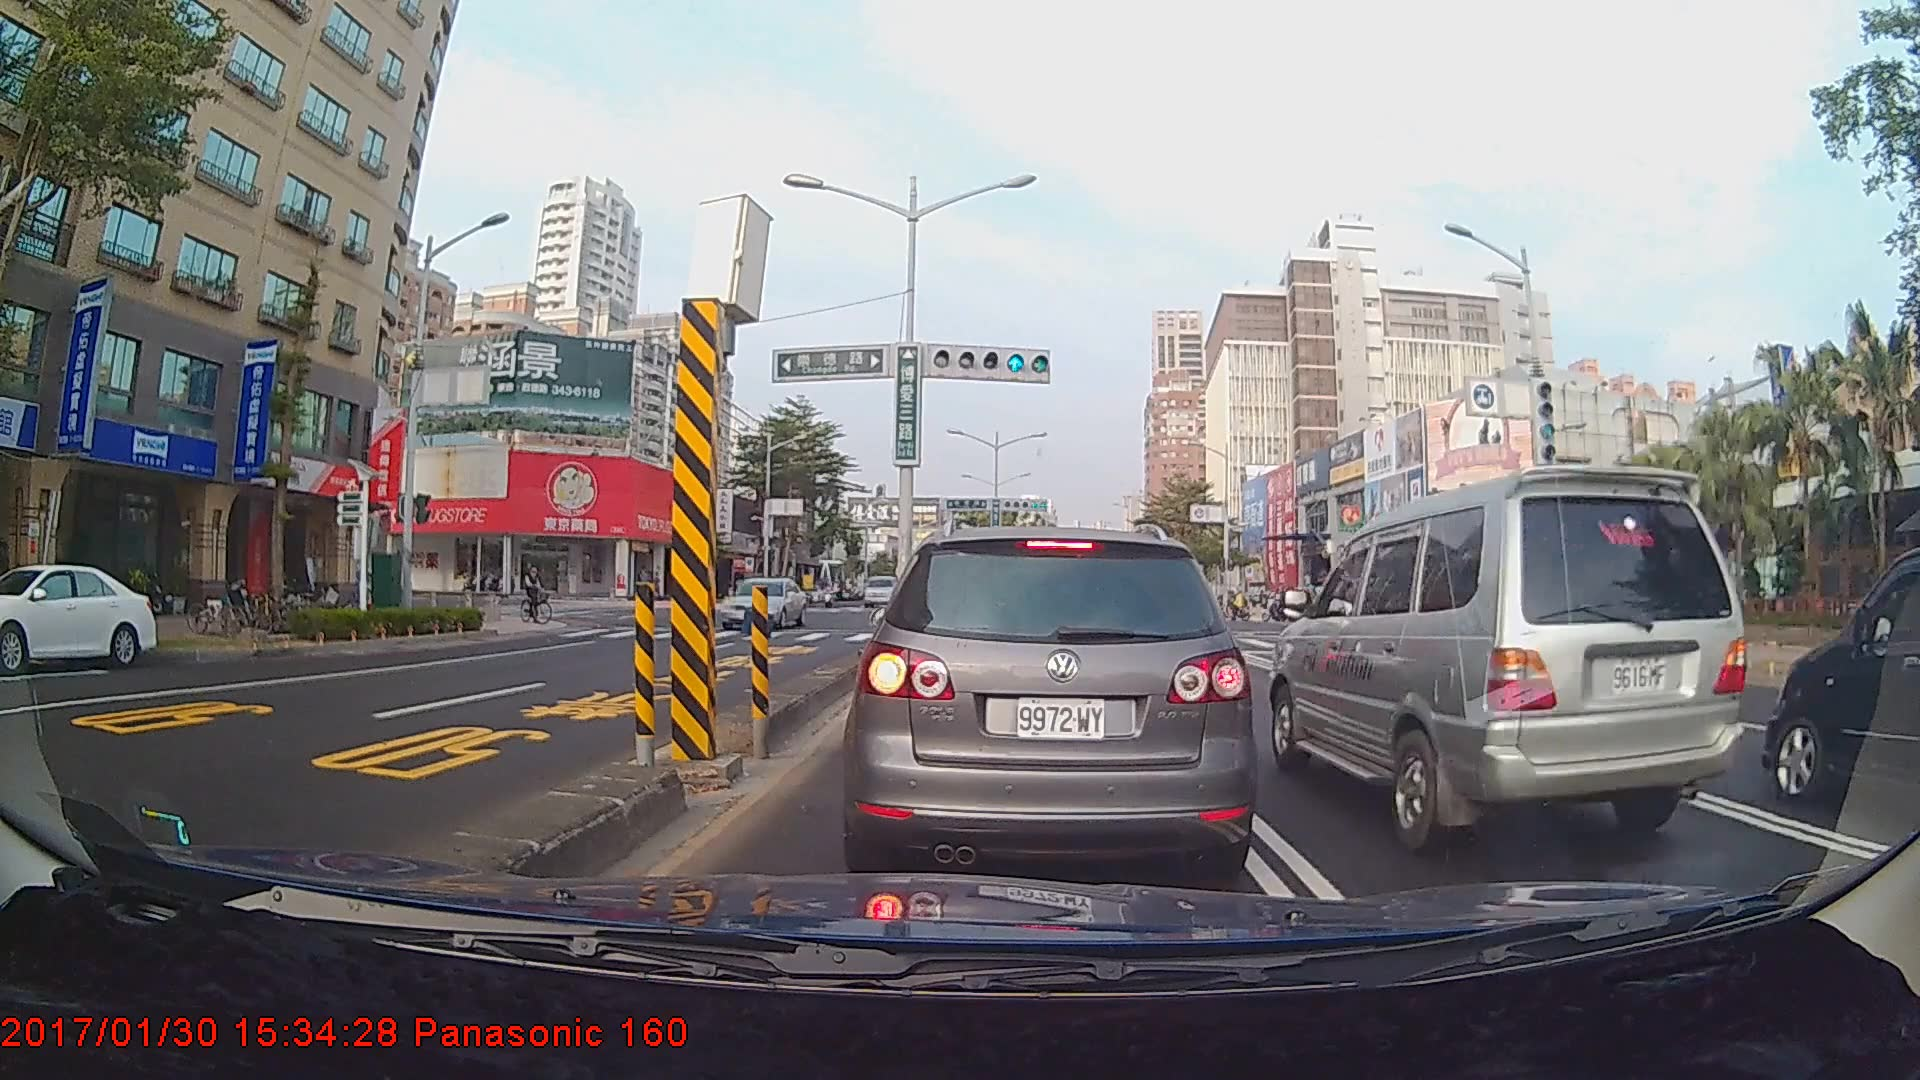rider: (518, 559, 561, 629)
vehicle: (1268, 467, 1749, 847), (853, 523, 1247, 881), (1758, 531, 1920, 827), (0, 561, 157, 671), (720, 574, 807, 631), (861, 573, 901, 607)
